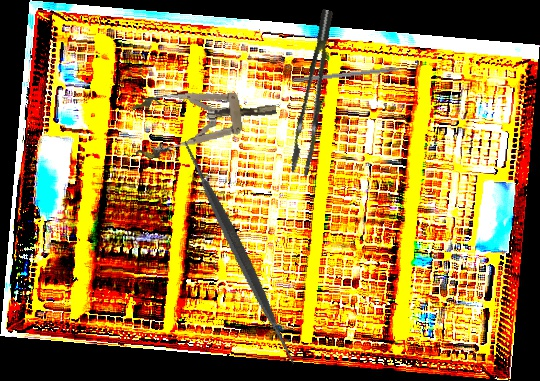Hook Surgical: (292, 64, 420, 84)
Spatula Surgical: (113, 128, 365, 378)
Speculum: (128, 80, 281, 161)
Tissue Forceps: (274, 8, 356, 177)
